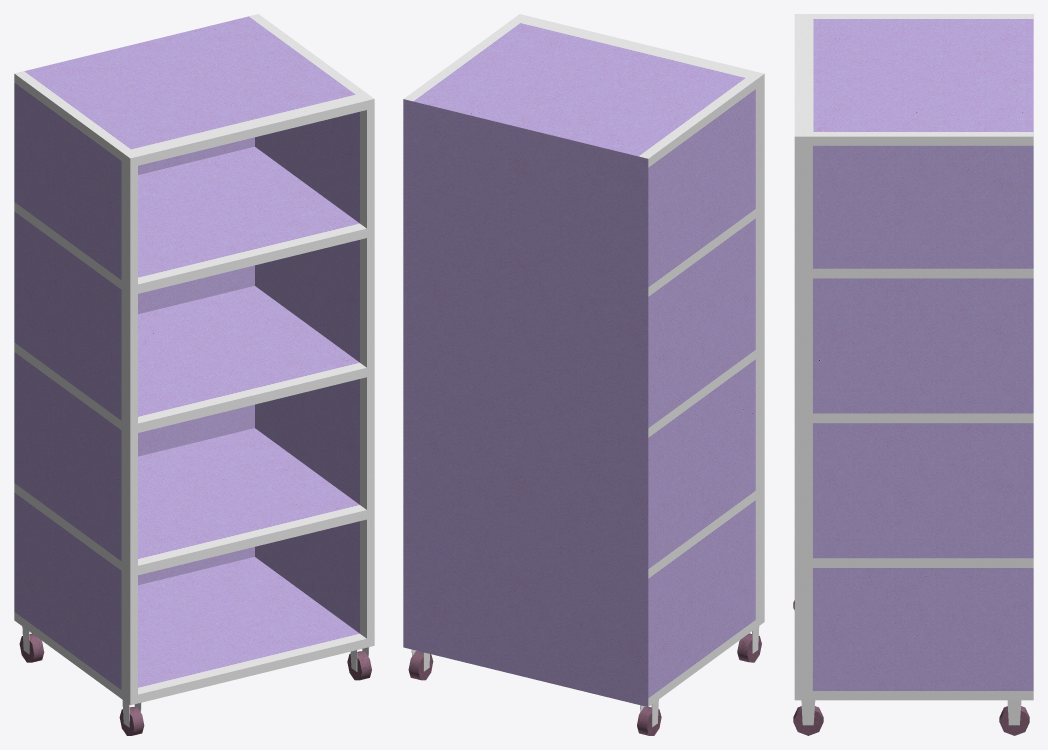
The model's file is tiejia01.FBX.
3 renders of one model, left to right at view 1: azimuth 30°, elevation 25°; view 2: azimuth 150°, elevation 25°; view 3: azimuth 270°, elevation 25°, orthographic. The views are drawn at different scales.
Visible parts, largest first — view 1: YF_Model_tiejia01; view 2: YF_Model_tiejia01; view 3: YF_Model_tiejia01.
Boxes of the visible parts, x1,y1,x2,y2 form: YF_Model_tiejia01: (14, 14, 374, 735); YF_Model_tiejia01: (403, 14, 764, 735); YF_Model_tiejia01: (793, 14, 1033, 735).
Size of the model in its own units: 72.44 by 165 by 59.93.
1 material, 1 textured.
